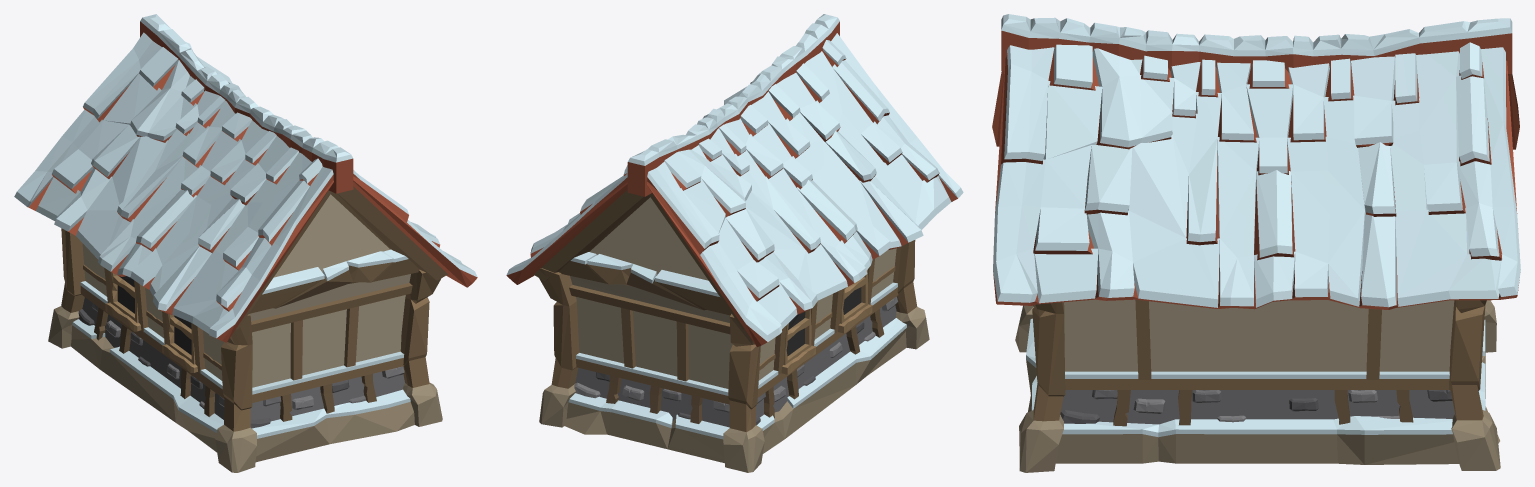
File: SM_Bld_House_Room_04_Snow.glb
3 views of the same model, side by side, from view 1: azimuth 30°, elevation 25°; view 2: azimuth 150°, elevation 25°; view 3: azimuth 270°, elevation 25° (orthographic). The views are drawn at different scales.
Parts seen in each view (by area): view 1: SM_Bld_House_Room_04_Snow; view 2: SM_Bld_House_Room_04_Snow; view 3: SM_Bld_House_Room_04_Snow.
Part boxes in pixels (x1,y1,x2,y2): SM_Bld_House_Room_04_Snow: [14, 14, 477, 472]; SM_Bld_House_Room_04_Snow: [506, 14, 963, 472]; SM_Bld_House_Room_04_Snow: [992, 14, 1520, 472].
Bounding box in the file's own units: 5.04 × 5.16 × 6.38.
Materials: 1 (1 with a texture image).
